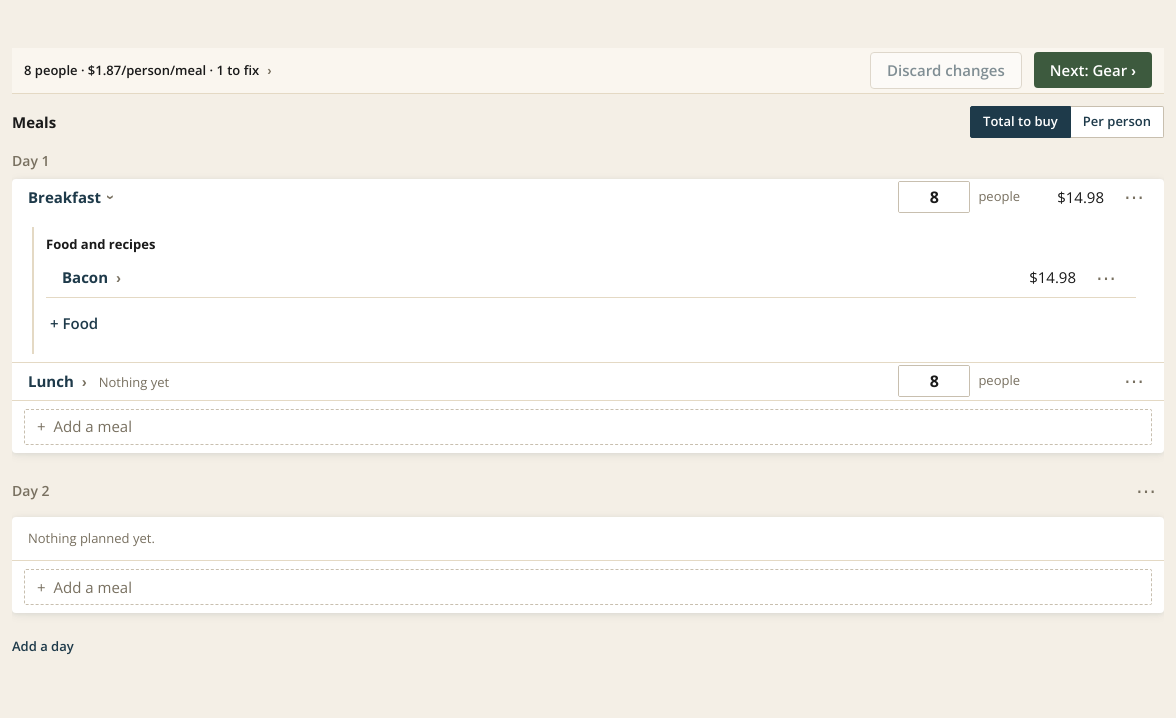
Test case: MealEditor › ingredient disclosure › Click_OpensTheIngredientList_WithTotalsForThePeople
Click the button "Bacon ›".
click(92, 278)  # box [62, 266, 121, 289]
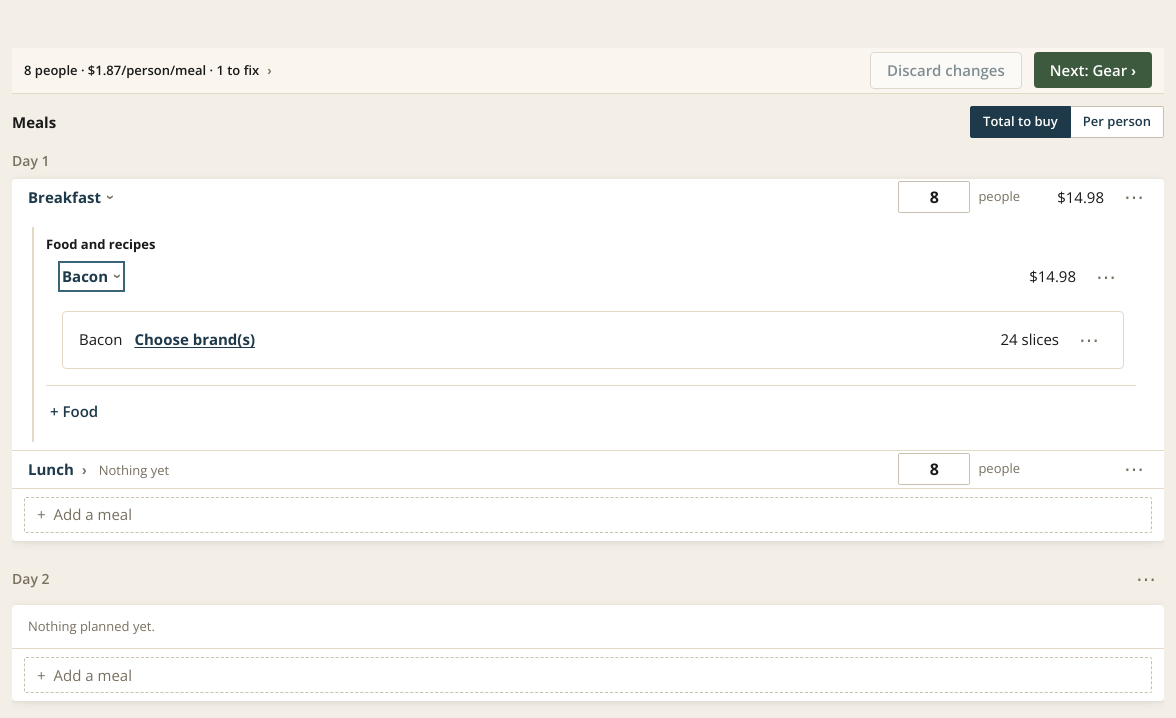
Result: the text "24 slices" is shown at [1000, 329, 1059, 349]
